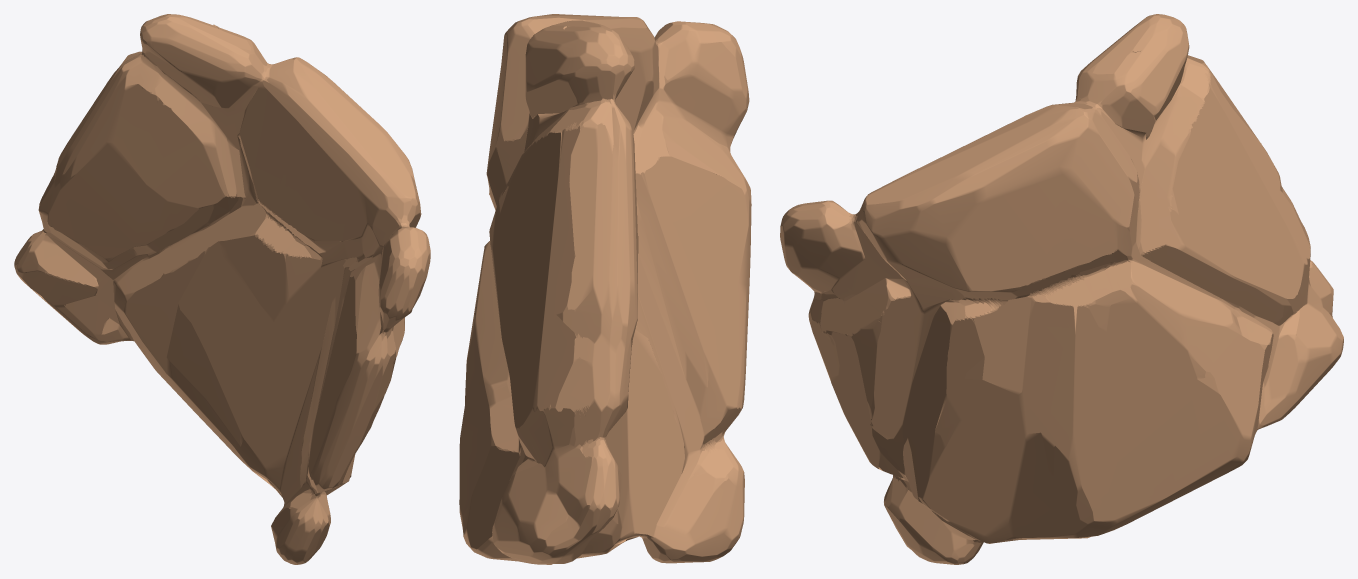
The picture shows the model from 3 angles, left to right: view 1: azimuth 30°, elevation 25°; view 2: azimuth 150°, elevation 25°; view 3: azimuth 270°, elevation 25°; orthographic projection. The views are drawn at different scales.
Visible parts, largest first — view 1: Mesh_93_LOD0; view 2: Mesh_93_LOD0; view 3: Mesh_93_LOD0.
Boxes of the visible parts, x1,y1,x2,y2 form: Mesh_93_LOD0: [14, 14, 430, 564]; Mesh_93_LOD0: [459, 14, 751, 564]; Mesh_93_LOD0: [780, 14, 1343, 564].
Size of what is drawn, in the model's own units: 1016 by 2112 by 2045.
